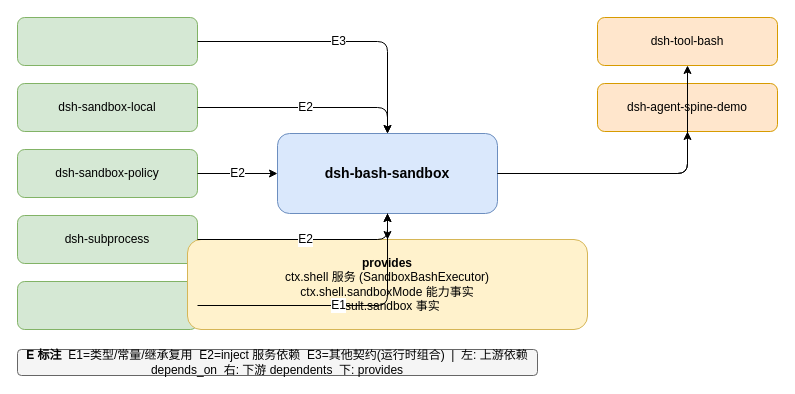
Some shapes in this 795 by 394 pixel diagram are drawn without their labels. The centre of each missing label's shape, as x and y in pixels:
"dsh-bash-local" belongs at point (107, 41).
"dsh-shell" belongs at point (107, 305).
